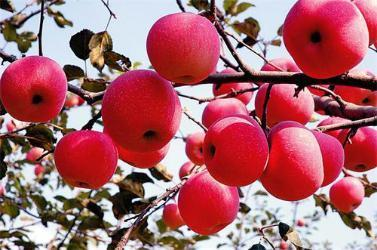apple: (273, 1, 365, 83), (102, 69, 181, 149), (145, 10, 220, 85), (259, 121, 324, 202), (202, 115, 270, 186), (1, 54, 68, 125), (175, 168, 240, 236), (53, 132, 118, 191), (328, 176, 365, 212)
